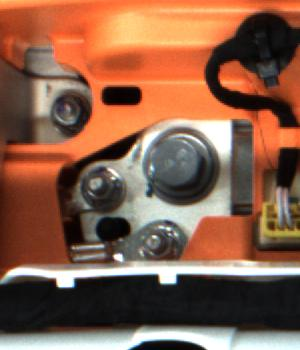nut_b: (145, 129, 223, 202)
